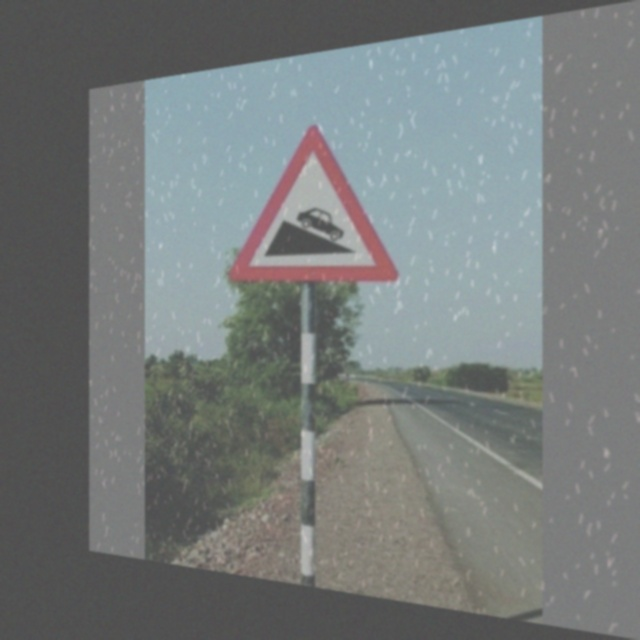Steep_Descent: (237, 113, 401, 284)
